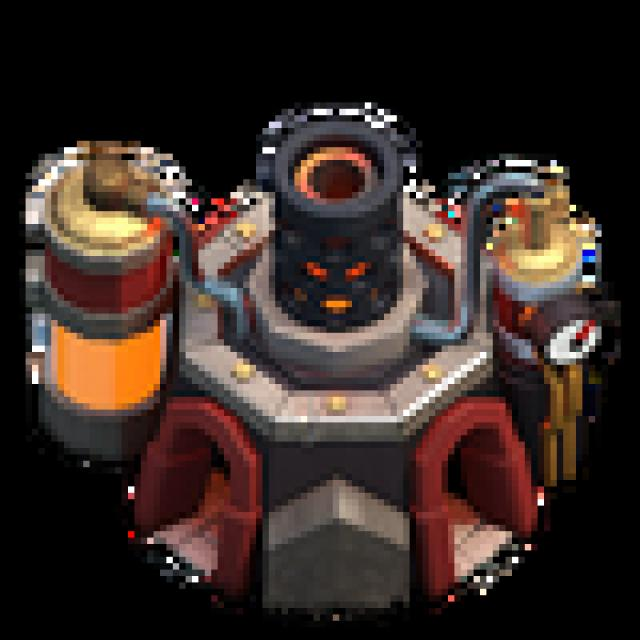laboratory: (24, 31, 626, 626)
